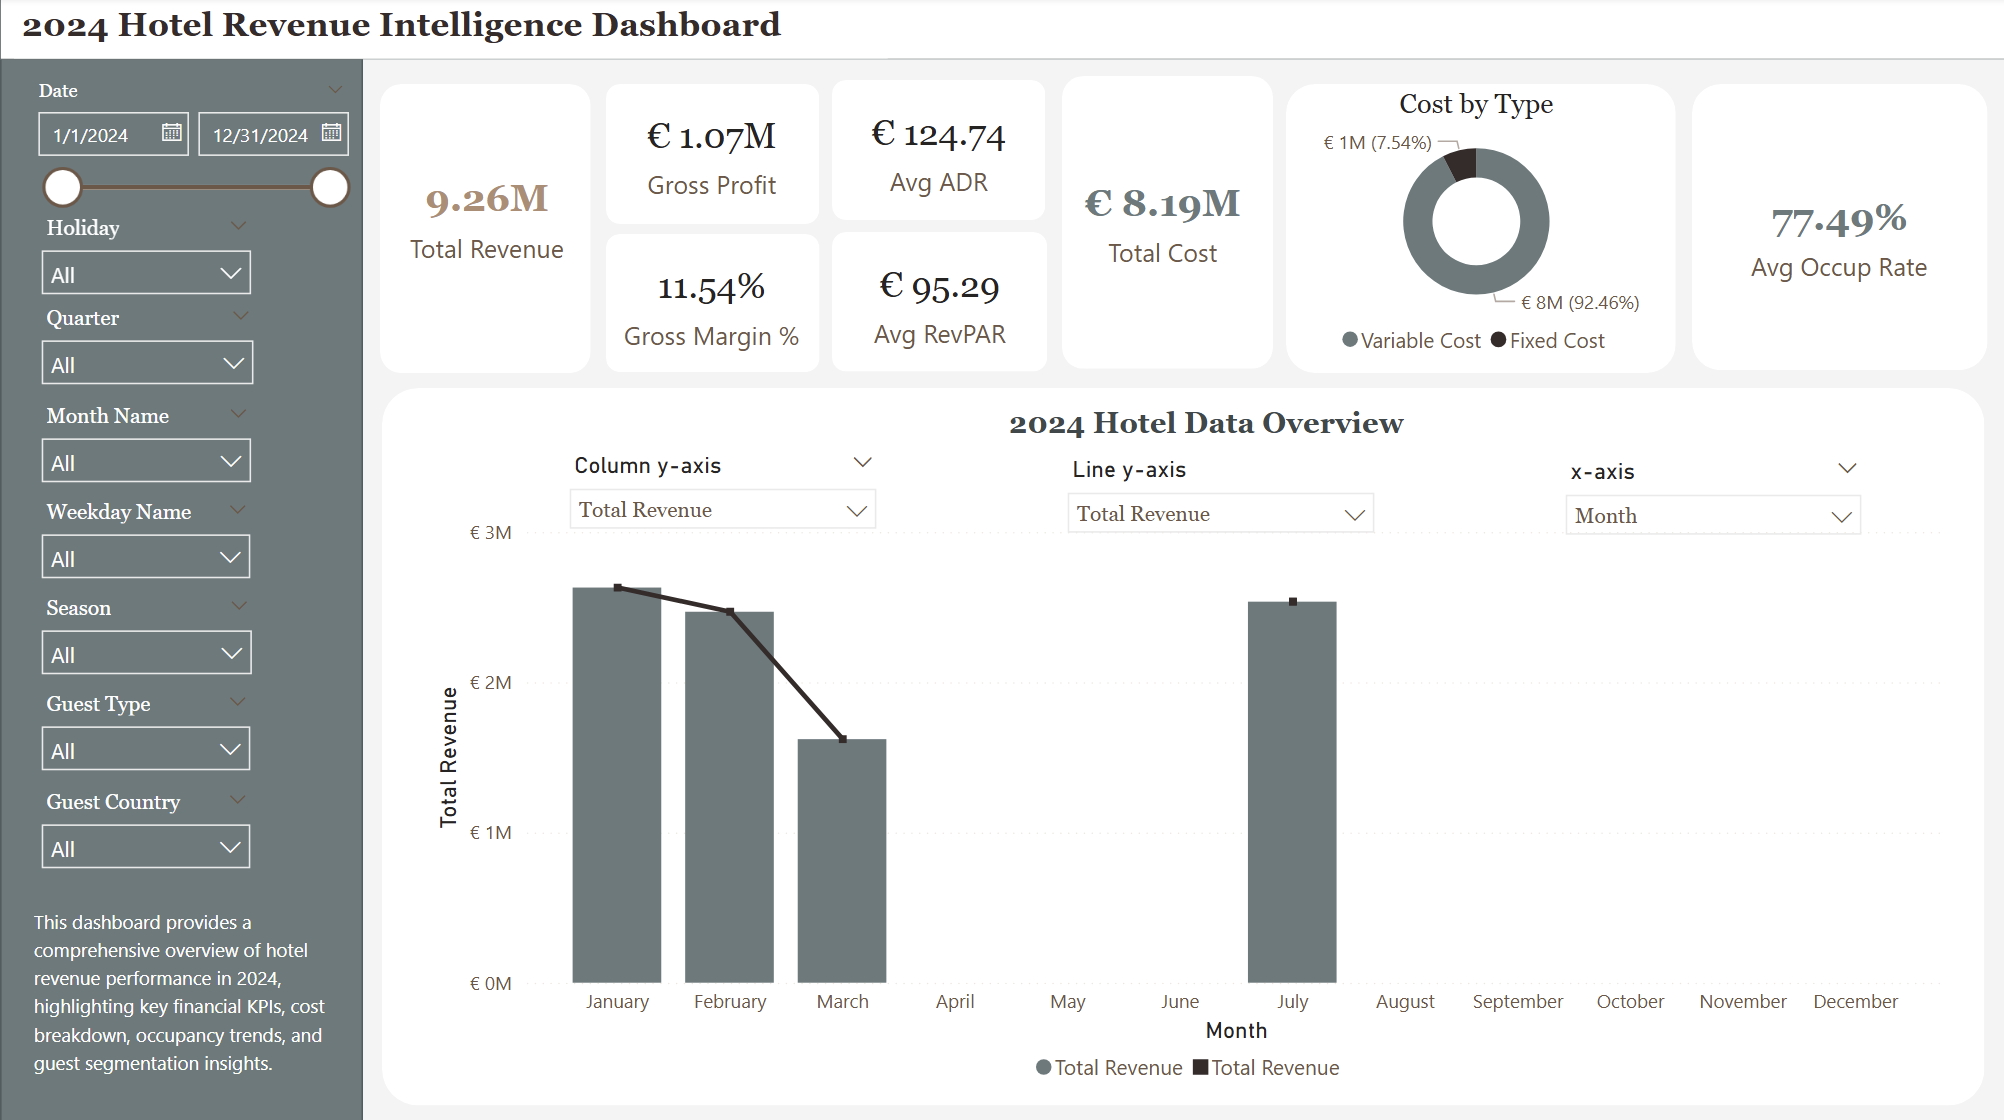

What the dashboard file says about the page in this screenshot:
{"tool":"powerbi","page":{"name":"Executive Summary - update","canvas":[1280,720],"ordinal":0},"visuals":[{"type":"shape","box":[1078.1,56.4,188.6,182.6],"z":0},{"type":"shape","box":[529.9,150.7,137.3,89.1],"z":1000},{"type":"shape","box":[820.4,55.6,248.6,184.3],"z":2000},{"type":"shape","box":[386.1,55.6,136,89.3],"z":3000},{"type":"shape","box":[386.1,152.1,136.4,88.2],"z":4000},{"type":"shape","box":[529.9,54.2,136,89.3],"z":5000},{"type":"card","fields":{"Values":["Hotel book.Gross Margin %"]},"box":[379.1,139.4,150,114.5],"z":6000},{"type":"card","fields":{"Values":["Hotel book.Total Profit"]},"box":[363.7,30.3,180.9,139.1],"z":7000},{"type":"card","fields":{"Values":["Hotel book.Avg RevPAR"]},"box":[507.1,123.4,183.6,143.6],"z":8000},{"type":"donutChart","title":"Cost by Type","fields":{"Y":["Hotel book.Variable Cost","Hotel book.Fixed Cost"]},"box":[800.9,59.2,281.2,179.4],"z":9000},{"type":"card","fields":{"Values":["Hotel book.Avg ADR"]},"box":[504.4,26.1,187.3,145.5],"z":10000},{"type":"card","fields":{"Values":["Hotel book.Avg Occup Rate"]},"box":[1081.5,64.4,182.9,174.1],"z":11000},{"type":"shape","box":[243.5,250.4,1021.6,457.4],"z":12000},{"type":"shape","box":[0,40,231.4,680],"z":13000},{"type":"shape","box":[0,0,1284.1,40.5],"z":14000},{"type":"shape","box":[242.6,55.6,134.3,184.3],"z":16000},{"type":"card","fields":{"Values":["Hotel book.Total Revenue"]},"box":[216.4,71.2,187.3,137.3],"z":17000},{"type":"slicer","fields":{"Values":["Date Table.Date"]},"box":[11,48.3,220,121.7],"z":18000},{"type":"slicer","fields":{"Values":["Date Table.Quarter"]},"box":[16.7,193.1,155,68.3],"z":19000},{"type":"slicer","fields":{"Values":["Date Table.MonthName"]},"box":[16.7,254.4,153.3,68.3],"z":20000},{"type":"textbox","box":[8.6,1.4,557.1,38.6],"z":21000},{"type":"slicer","fields":{"Values":["Date Table.WeekdayName"]},"box":[16.7,315.8,152.9,68.6],"z":22000},{"type":"slicer","fields":{"Values":["Hotel book.Season"]},"box":[16.7,377.3,153.8,68.7],"z":23000},{"type":"slicer","fields":{"Values":["Hotel book.Guest_Type"]},"box":[16.7,439,152.9,68.6],"z":24000},{"type":"slicer","fields":{"Values":["Hotel book.Guest_Country"]},"box":[16.7,500.6,152.9,68.6],"z":25000},{"type":"textbox","box":[17,574.4,199.2,135.9],"z":26000},{"type":"slicer","fields":{"Values":["Hotel book.Holiday"]},"box":[16.7,135,153.3,61.7],"z":27000},{"type":"shape","box":[676.5,51.2,134.6,186.8],"z":28000},{"type":"card","fields":{"Values":["Hotel book.Total Cost"]},"box":[661.2,87.7,159.1,110],"z":29000},{"type":"lineStackedColumnComboChart","title":"2024 Hotel Data Overview","fields":{"Y":["DAX.Total Revenue"],"Y2":["DAX.Total Revenue"],"Category":["Date Table.MonthName"]},"box":[273.2,327.6,972.6,374.2],"z":30000},{"type":"slicer","fields":{"Values":["Parameter.Parameter"]},"box":[353.5,285.7,215.7,67.1],"z":31000},{"type":"slicer","fields":{"Values":["Parameter 2.Parameter"]},"box":[670.7,288.6,215.7,58.6],"z":32000},{"type":"slicer","fields":{"Values":["Parameter 3.Parameter"]},"box":[987.8,290,208.6,58.6],"z":33000},{"type":"textbox","box":[624.7,256.3,288.8,35],"z":34000}]}

Visuals, with their boxes on the page's 1280x720 design canvas (x1, y1, x2, y2). These are canvas units, not pixel positions in the 2004x1120 screenshot, which may show the page scaled, cropped or inside an application window:
shape: [x1=1078, y1=56, x2=1267, y2=239]
shape: [x1=530, y1=151, x2=667, y2=240]
shape: [x1=820, y1=56, x2=1069, y2=240]
shape: [x1=386, y1=56, x2=522, y2=145]
shape: [x1=386, y1=152, x2=522, y2=240]
shape: [x1=530, y1=54, x2=666, y2=144]
card - Hotel book.Gross Margin %: [x1=379, y1=139, x2=529, y2=254]
card - Hotel book.Total Profit: [x1=364, y1=30, x2=545, y2=169]
card - Hotel book.Avg RevPAR: [x1=507, y1=123, x2=691, y2=267]
"Cost by Type" donutChart: [x1=801, y1=59, x2=1082, y2=239]
card - Hotel book.Avg ADR: [x1=504, y1=26, x2=692, y2=172]
card - Hotel book.Avg Occup Rate: [x1=1082, y1=64, x2=1264, y2=238]
shape: [x1=244, y1=250, x2=1265, y2=708]
shape: [x1=0, y1=40, x2=231, y2=720]
shape: [x1=0, y1=0, x2=1284, y2=40]
shape: [x1=243, y1=56, x2=377, y2=240]
card - Hotel book.Total Revenue: [x1=216, y1=71, x2=404, y2=208]
slicer - Date Table.Date: [x1=11, y1=48, x2=231, y2=170]
slicer - Date Table.Quarter: [x1=17, y1=193, x2=172, y2=261]
slicer - Date Table.MonthName: [x1=17, y1=254, x2=170, y2=323]
textbox: [x1=9, y1=1, x2=566, y2=40]
slicer - Date Table.WeekdayName: [x1=17, y1=316, x2=170, y2=384]
slicer - Hotel book.Season: [x1=17, y1=377, x2=170, y2=446]
slicer - Hotel book.Guest_Type: [x1=17, y1=439, x2=170, y2=508]
slicer - Hotel book.Guest_Country: [x1=17, y1=501, x2=170, y2=569]
textbox: [x1=17, y1=574, x2=216, y2=710]
slicer - Hotel book.Holiday: [x1=17, y1=135, x2=170, y2=197]
shape: [x1=676, y1=51, x2=811, y2=238]
card - Hotel book.Total Cost: [x1=661, y1=88, x2=820, y2=198]
"2024 Hotel Data Overview" lineStackedColumnComboChart: [x1=273, y1=328, x2=1246, y2=702]
slicer - Parameter.Parameter: [x1=354, y1=286, x2=569, y2=353]
slicer - Parameter 2.Parameter: [x1=671, y1=289, x2=886, y2=347]
slicer - Parameter 3.Parameter: [x1=988, y1=290, x2=1196, y2=349]
textbox: [x1=625, y1=256, x2=914, y2=291]
